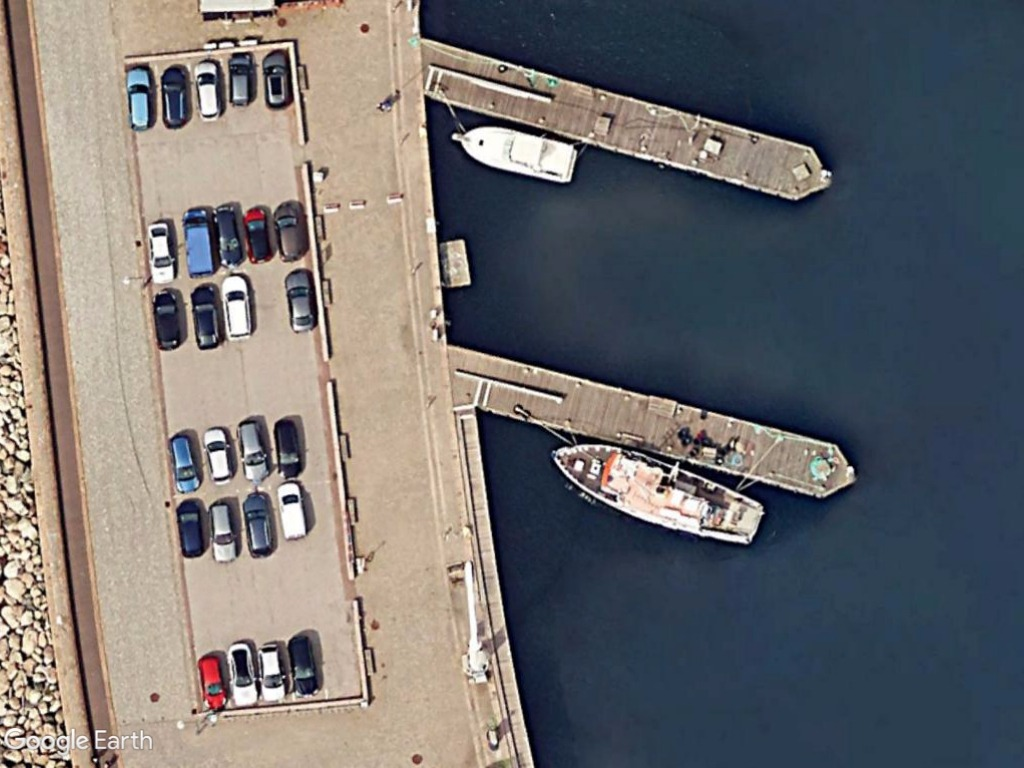boat: (544, 441, 771, 551), (450, 118, 582, 191)
car: (188, 277, 225, 353), (141, 216, 180, 286), (220, 271, 257, 342), (286, 632, 324, 701), (235, 419, 272, 489), (226, 638, 261, 712), (270, 199, 308, 267), (200, 422, 237, 490), (240, 488, 275, 559), (156, 63, 192, 130), (123, 65, 157, 135), (284, 267, 319, 335), (167, 431, 204, 495), (190, 57, 225, 124), (255, 638, 289, 706), (210, 204, 246, 268), (195, 650, 231, 714), (270, 417, 305, 482), (207, 498, 240, 565), (261, 49, 295, 113), (176, 496, 209, 561), (149, 290, 182, 353), (224, 49, 258, 109)
van: (180, 204, 218, 282), (274, 477, 310, 544)
